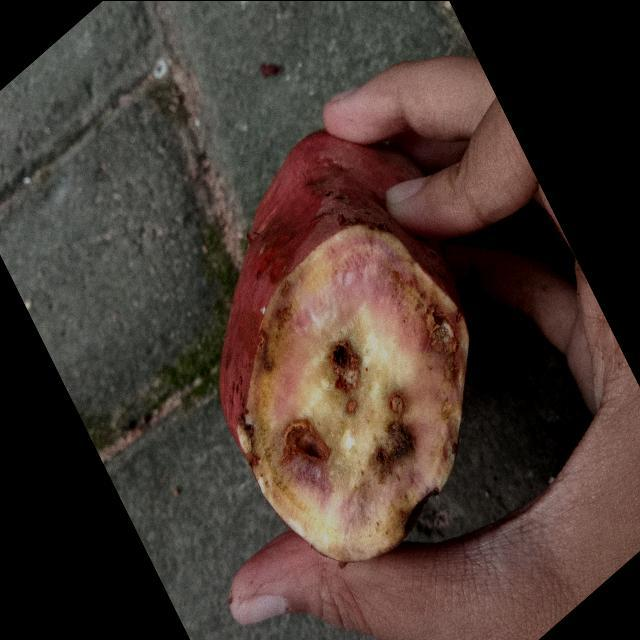Sick Sweet Potato_Tuber Rot: (238, 223, 469, 560)
